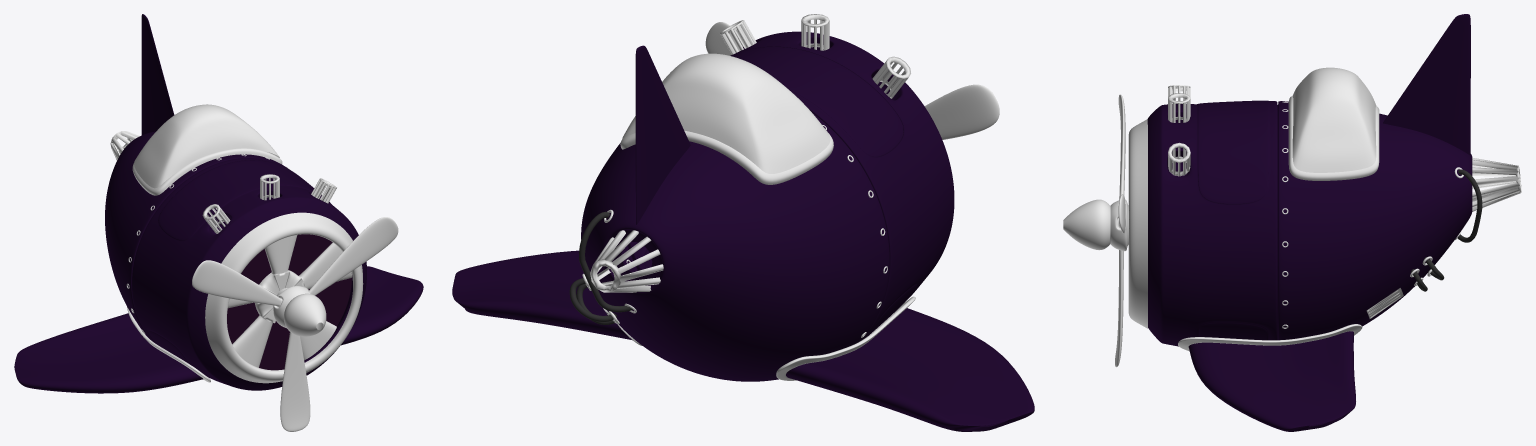
3 renders of one model, left to right at view 1: azimuth 30°, elevation 25°; view 2: azimuth 150°, elevation 25°; view 3: azimuth 270°, elevation 25°, orthographic. The views are drawn at different scales.
Parts seen in each view (by area): view 1: Body, Circle.008, Circle.004, Circle.003, Circle.002, Circle.005, Circle.006, Cube, Cylinder.001, Circle.001, Circle.007, Cylinder; view 2: Body, Circle.008, Circle.002, Cube, Circle.004, Cylinder, Cylinder.001, Circle.001, Circle.007, BezierCurve.002; view 3: Body, Circle.008, Circle.002, Cube, Circle.003, Circle.004, Cylinder, Circle.001, Cylinder.001, Circle.007, BezierCurve.002.
Boxes of the visible parts, x1,y1,x2,y2 form: Body: (105,131,366,390); Circle.008: (14,266,423,393); Circle.004: (192,217,398,431); Circle.003: (205,212,363,383); Circle.002: (134,104,279,188); Circle.005: (228,235,351,367); Circle.006: (227,234,351,370); Cube: (141,14,174,134); Cylinder.001: (202,174,336,233); Circle.001: (132,148,282,195); Circle.007: (127,307,210,382); Cylinder: (110,131,139,160); Body: (581,31,954,381); Circle.008: (452,250,1034,431); Circle.002: (622,53,830,173); Cube: (635,45,690,224); Circle.004: (705,22,999,139); Cylinder: (590,230,663,292); Cylinder.001: (719,14,910,98); Circle.001: (620,130,833,184); Circle.007: (617,296,915,380); BezierCurve.002: (579,211,632,312); Body: (1147,100,1472,346); Circle.008: (1188,331,1355,431); Circle.002: (1292,67,1376,172); Cube: (1383,14,1470,155); Circle.003: (1128,119,1147,328); Circle.004: (1063,94,1128,367); Cylinder: (1472,158,1521,211); Circle.001: (1288,96,1379,180); Cylinder.001: (1168,85,1190,176); Circle.007: (1178,324,1362,351); BezierCurve.002: (1457,169,1482,242).
Bounding box in the file's own units: 320 × 231 × 274.
